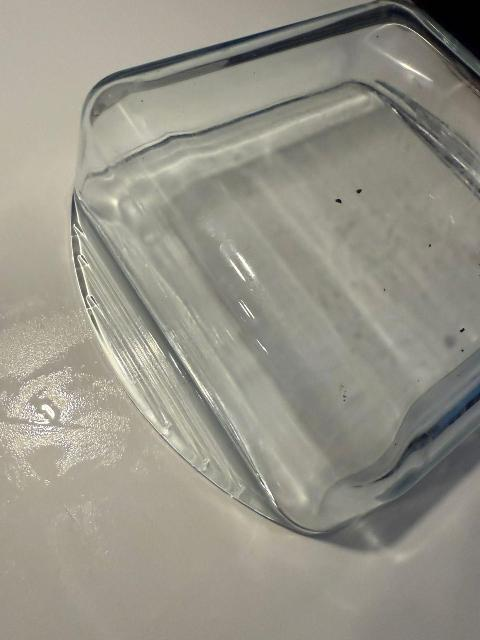Cam: (61, 1, 480, 553)
